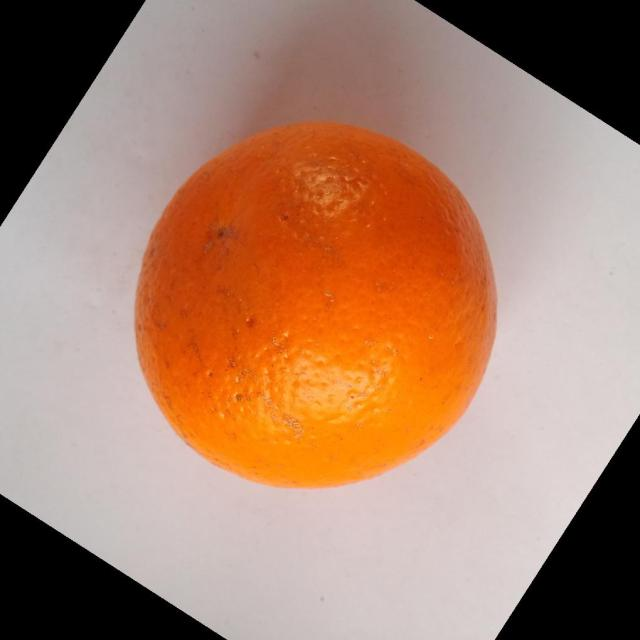fresh orange: (133, 118, 498, 490)
